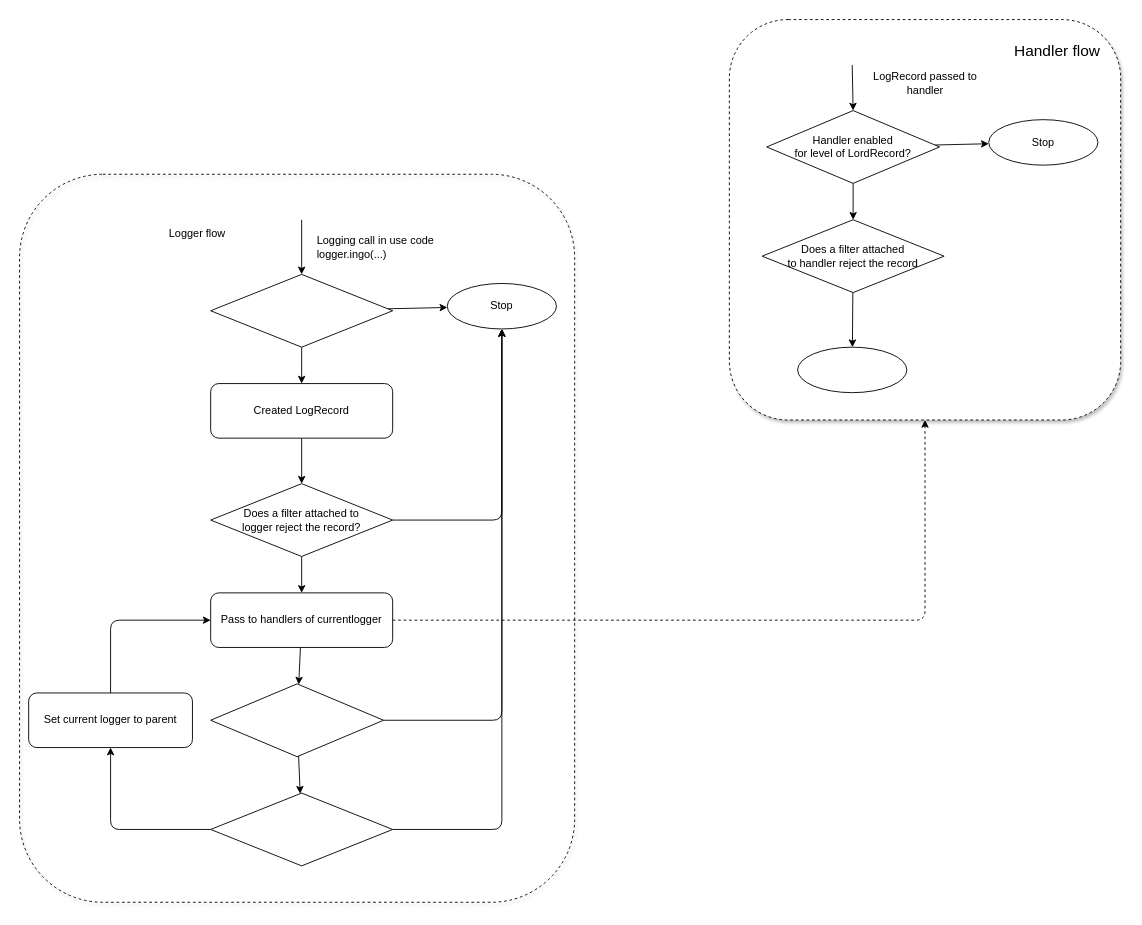
The diagram is 1142 pixels wide and 925 high, and some of its shapes have lost their labels. Here are the shapes that lost their labels. From the top down, the centre of each, then its label:
At point (301, 310): "Logger enabled for level in call".
At point (852, 369): "Emit (includes formatting)".
At point (297, 720): "Is propagate true for current logger?".
At point (301, 829): "Is there a parent logger?".
